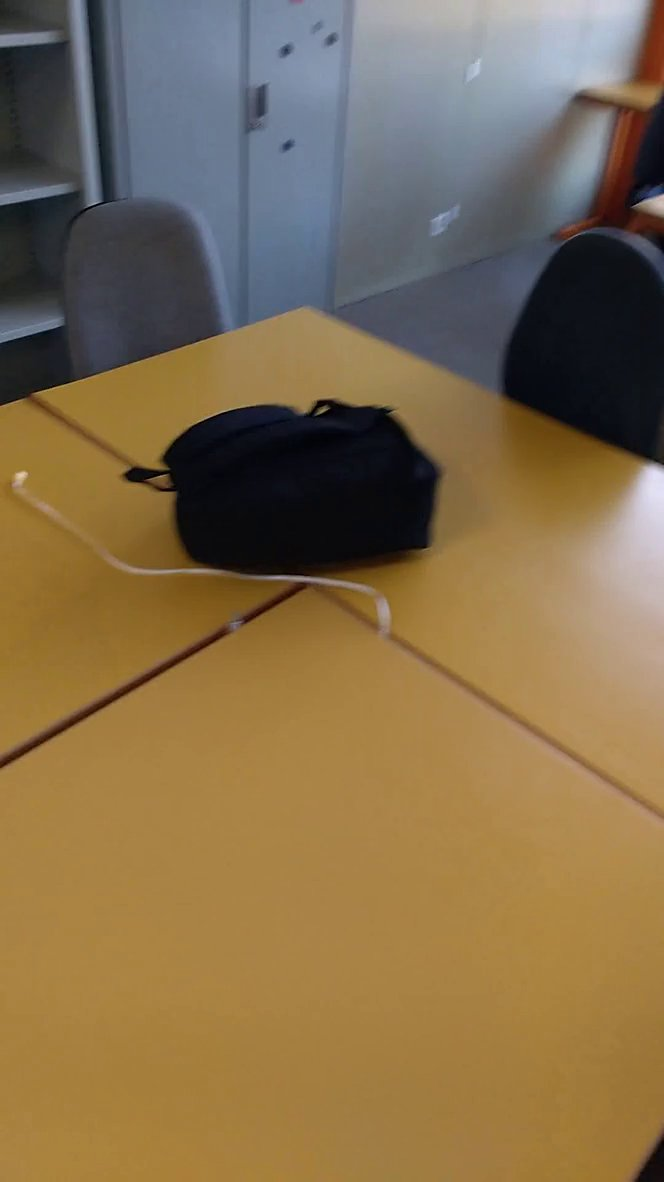bag: (110, 395, 468, 585)
chair: (482, 196, 664, 481), (53, 180, 248, 383)
